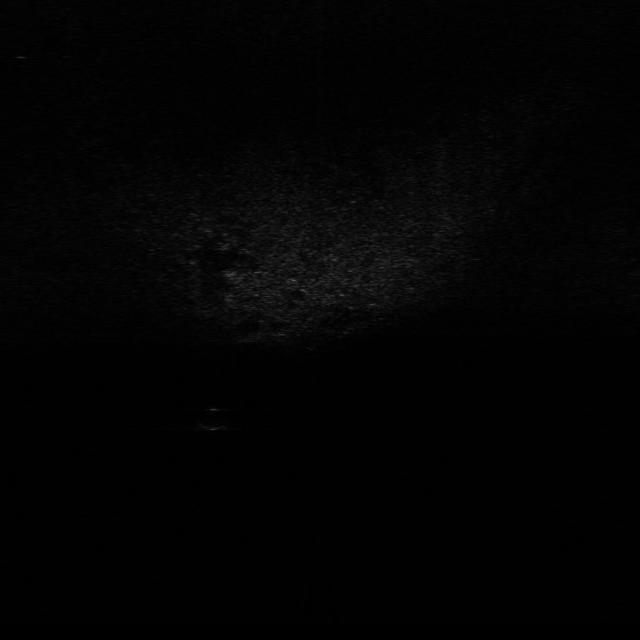ball: (190, 404, 234, 432)
